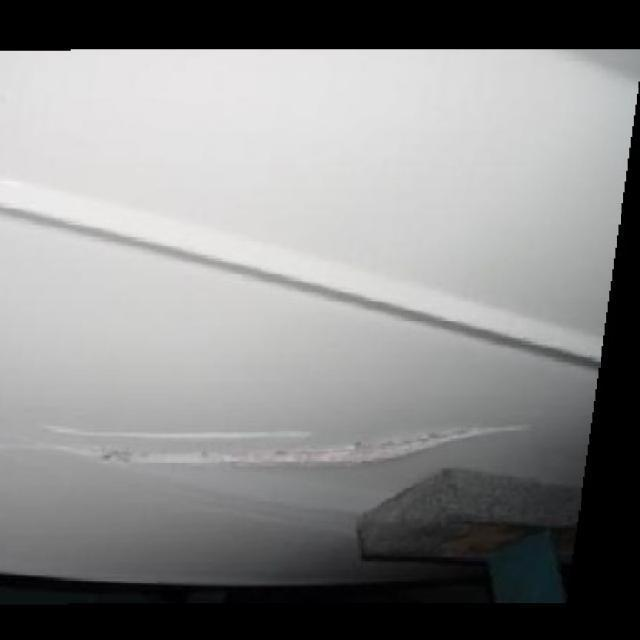crack: (48, 426, 533, 466)
